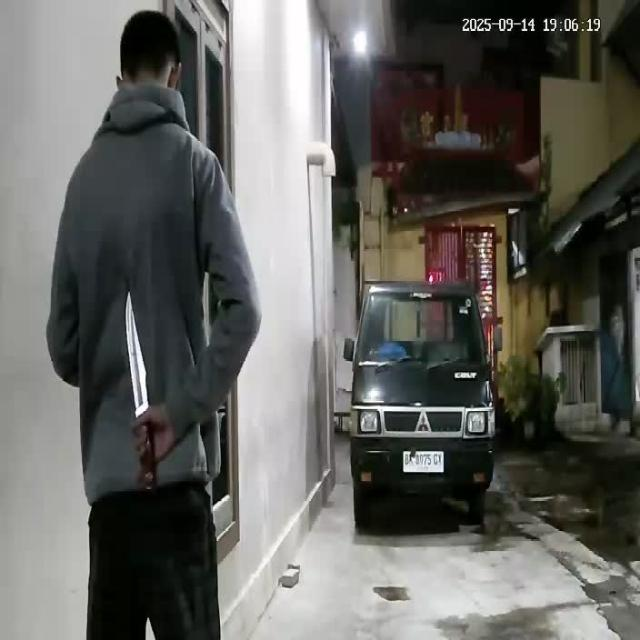senjata_tajam: (123, 291, 151, 418)
